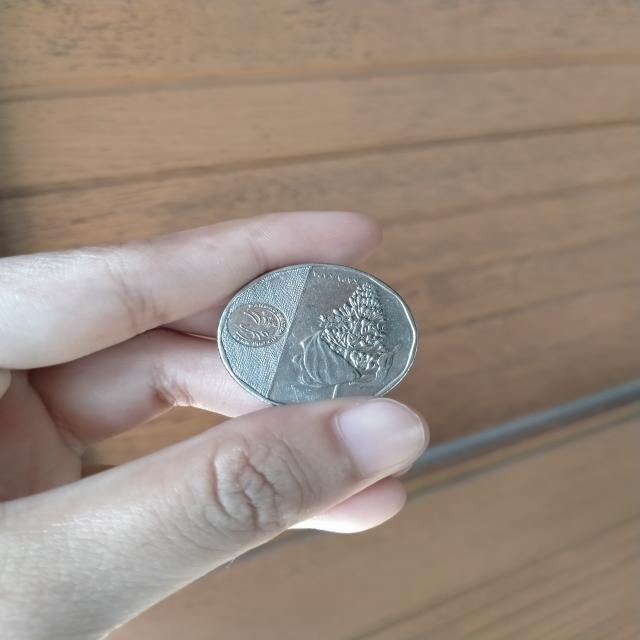10_New_Back: (287, 268, 409, 415)
